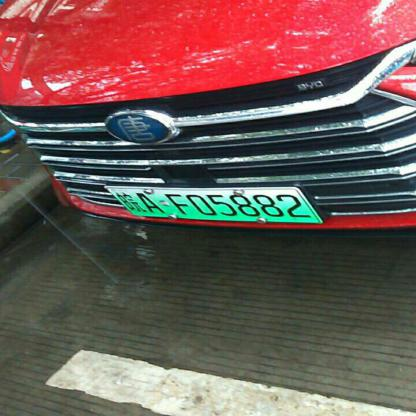lp: (106, 187, 321, 221)
